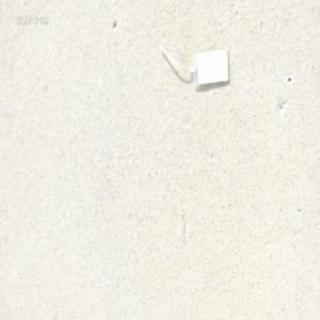LuggageTagtrack_idkeyframe: (154, 42, 231, 88)
